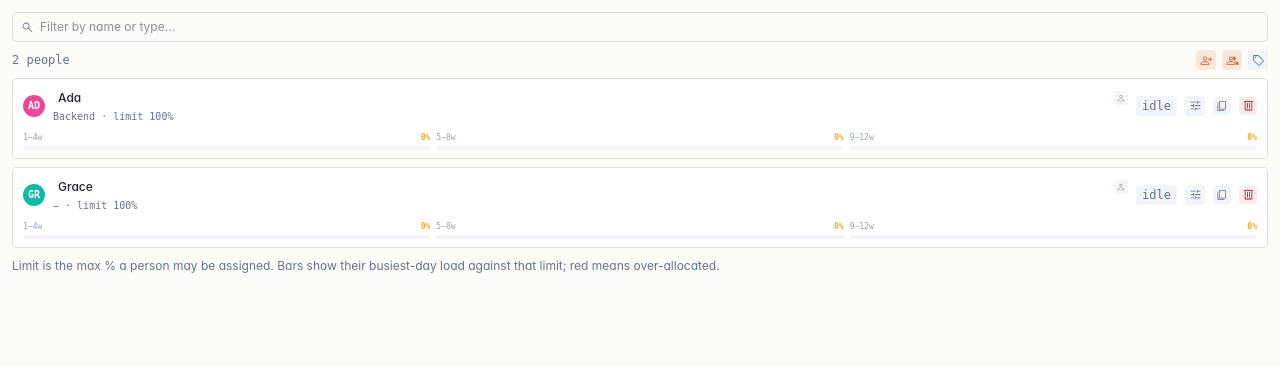
it: the row stays scannable › reveals them for the row that was opened
The image size is (1280, 367).
Click the button named "Type, limit and rate" in the row of "Backend" at (1195, 106), box [1185,96,1205,116]
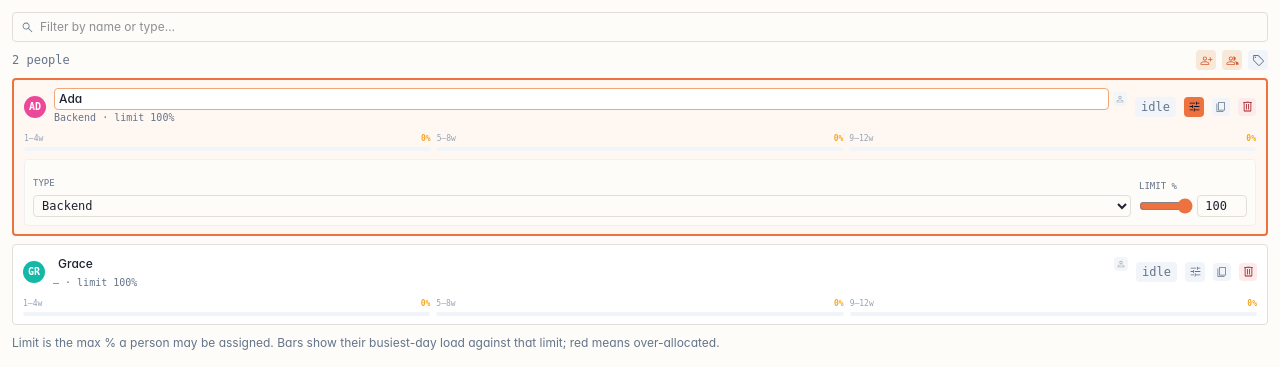
Expected: the text "LIMIT %" is shown, [1139,181,1177,191]
Expected: the text "TYPE" is shown, [33,178,55,188]
